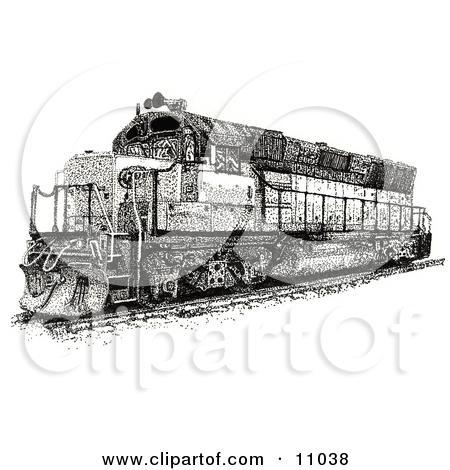train: (21, 87, 435, 319)
